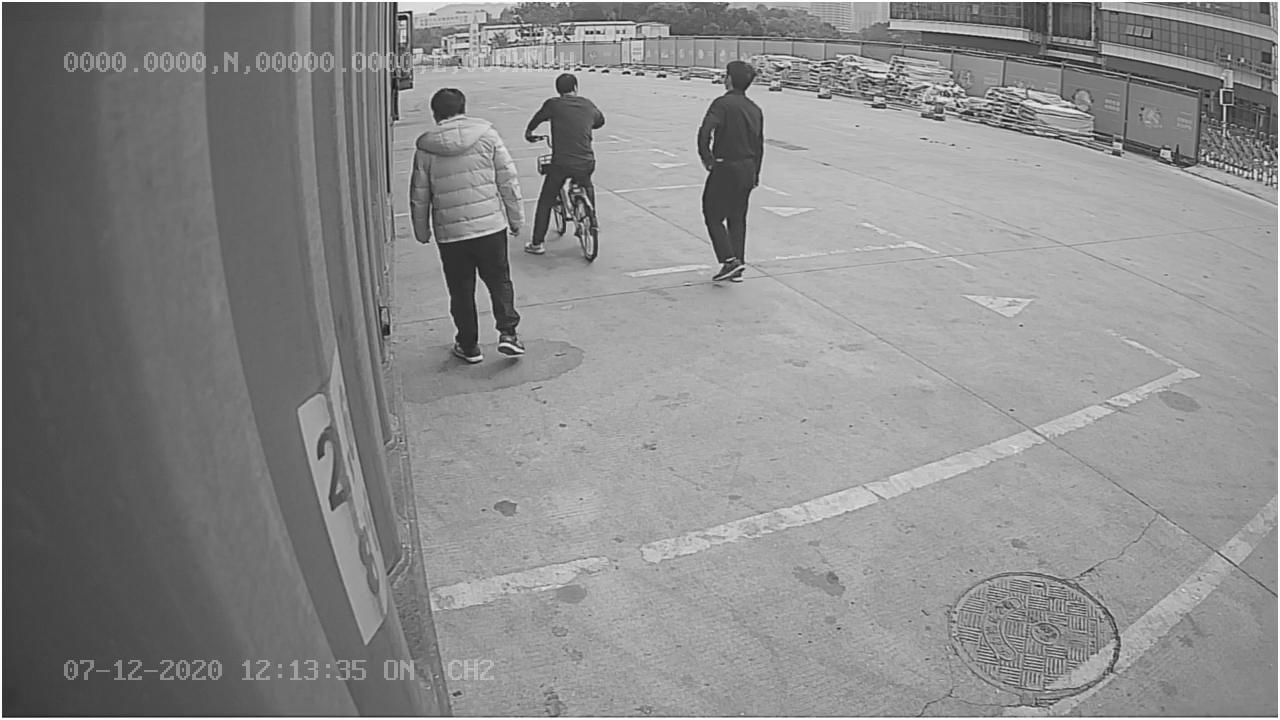person: (410, 87, 528, 367), (695, 60, 767, 282)
